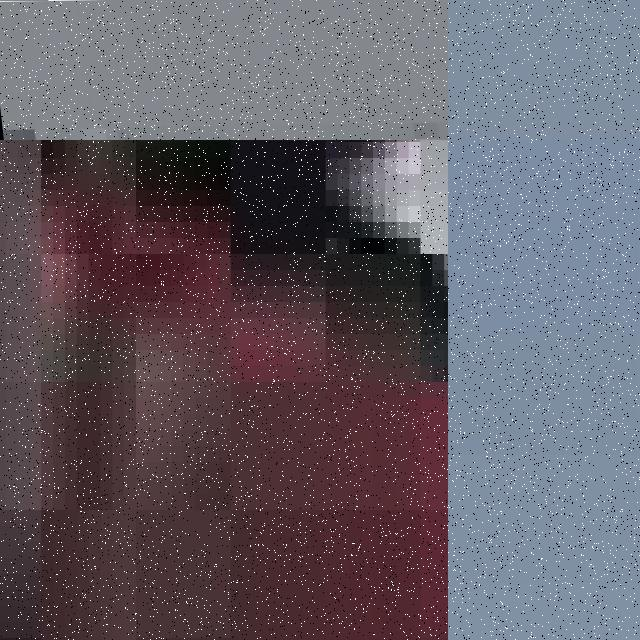drone: (0, 0, 448, 140)
